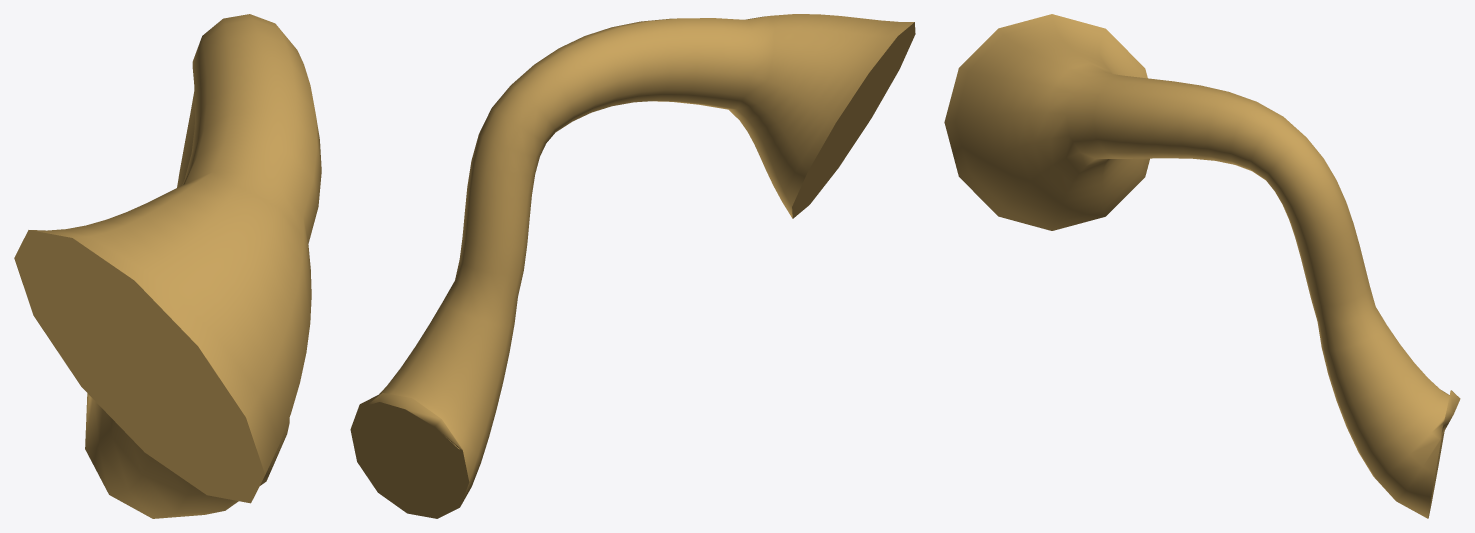
3 renders of one model, left to right at view 1: azimuth 30°, elevation 25°; view 2: azimuth 150°, elevation 25°; view 3: azimuth 270°, elevation 25°, orthographic. The views are drawn at different scales.
Parts seen in each view (by area): view 1: 右侧前交叉韧带; view 2: 右侧前交叉韧带; view 3: 右侧前交叉韧带.
Part boxes in pixels (x1,y1,x2,y2): 右侧前交叉韧带: [14, 14, 321, 518]; 右侧前交叉韧带: [350, 14, 915, 518]; 右侧前交叉韧带: [944, 14, 1460, 518].
Bounding box in the file's own units: 0.0312 × 0.0362 × 0.0438.
